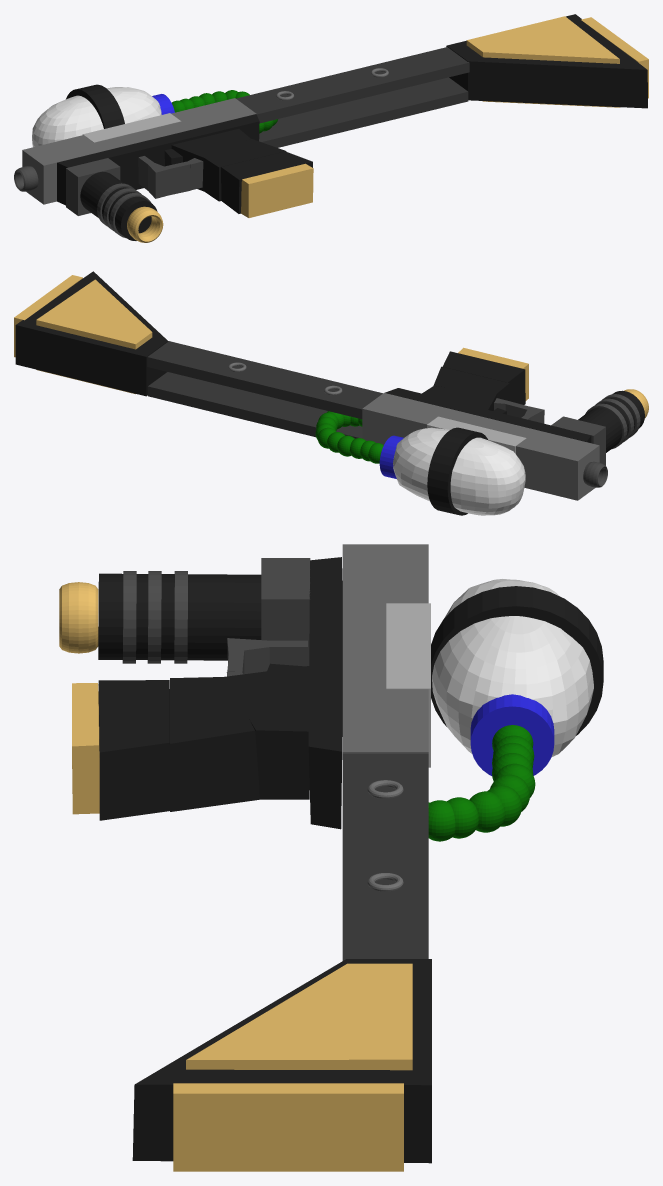
The model's file is SMG01.fbx.
3 renders of one model, top to bottom at view 1: azimuth 30°, elevation 25°; view 2: azimuth 150°, elevation 25°; view 3: azimuth 270°, elevation 25°, orthographic. The views are drawn at different scales.
Visible parts, largest first — view 1: Cube.014, Cube.012, Cube.013, Cube.002, Cube.016, Sphere.015, Cube.001, Cube.004, Cylinder.005, Cube, Cube.005, Cube.015 (+9 smaller); view 2: Cube.002, Cube.014, Sphere.015, Cube.012, Cube.013, Cube.016, Cylinder.004, Cube.001, Cube, Cylinder.005, Cube.005, Cube.003 (+6 smaller); view 3: Cube.017, Cube.012, Cube.016, Sphere.015, Cube.002, Cube.014, Cube.005, Cylinder.005, Cube, Cube.001, Cube.003, Cylinder.004 (+13 smaller).
Part boxes in pixels (x1,y1,x2,y2): Cube.014: (446, 14, 647, 108); Cube.012: (236, 47, 469, 123); Cube.013: (259, 77, 468, 147); Cube.002: (22, 98, 256, 204); Cube.016: (466, 16, 619, 107); Sphere.015: (32, 87, 161, 147); Cube.001: (57, 114, 259, 205); Cube.004: (241, 163, 313, 217); Cylinder.005: (80, 171, 157, 240); Cube: (221, 151, 312, 213); Cube.005: (204, 139, 286, 201); Cube.015: (66, 158, 120, 215); Cube.002: (362, 393, 599, 500); Cube.014: (15, 271, 168, 396); Sphere.015: (393, 427, 525, 515); Cube.012: (147, 341, 382, 419); Cube.013: (148, 372, 362, 438); Cube.016: (36, 279, 152, 394); Cylinder.004: (427, 427, 487, 515); Cube.001: (385, 388, 591, 442); Cube: (442, 351, 525, 404); Cylinder.005: (578, 390, 644, 452); Cube.005: (433, 366, 509, 400); Cube.003: (422, 386, 497, 410); Cube.017: (173, 1083, 403, 1171); Cube.012: (342, 753, 428, 960); Cube.016: (186, 963, 412, 1070); Sphere.015: (432, 579, 593, 756); Cube.002: (342, 544, 428, 753); Cube.014: (132, 959, 431, 1163); Cube.005: (170, 677, 259, 811); Cylinder.005: (98, 573, 261, 660); Cube: (98, 680, 169, 820); Cube.001: (308, 557, 342, 829); Cube.003: (224, 666, 309, 799); Cylinder.004: (431, 586, 603, 735).
Bounding box in the file's own units: 3096 × 390 × 1265.
